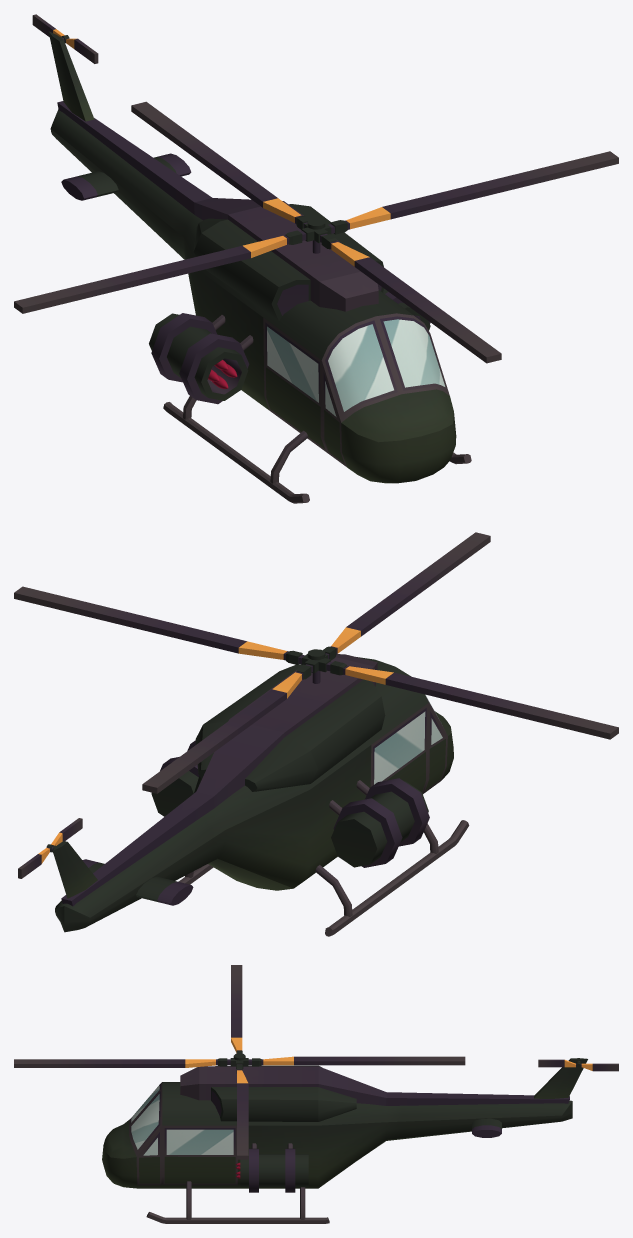
Rendered from Military_Helicopter02.fbx.
3 renders of one model, top to bottom at view 1: azimuth 30°, elevation 25°; view 2: azimuth 150°, elevation 25°; view 3: azimuth 270°, elevation 25°, orthographic. The views are drawn at different scales.
Visible parts, largest first — view 1: Military_Helicopter01, Military_Helicopter01_Rotor, Military_Helicopter01_Rotor_Back; view 2: Military_Helicopter01, Military_Helicopter01_Rotor, Military_Helicopter01_Rotor_Back; view 3: Military_Helicopter01, Military_Helicopter01_Rotor, Military_Helicopter01_Rotor_Back.
Boxes of the visible parts, left/top/right/bottom form: Military_Helicopter01: left=48, top=31, right=471, bottom=503; Military_Helicopter01_Rotor: left=14, top=101, right=618, bottom=363; Military_Helicopter01_Rotor_Back: left=32, top=14, right=98, bottom=63; Military_Helicopter01: left=51, top=654, right=469, bottom=936; Military_Helicopter01_Rotor: left=14, top=532, right=618, bottom=793; Military_Helicopter01_Rotor_Back: left=18, top=818, right=82, bottom=878; Military_Helicopter01: left=102, top=1058, right=587, bottom=1223; Military_Helicopter01_Rotor: left=14, top=965, right=465, bottom=1159; Military_Helicopter01_Rotor_Back: left=538, top=1059, right=618, bottom=1071.
Bounding box in the file's own units: 1021 × 355 × 1369.
Materials: 1 (1 with a texture image).
